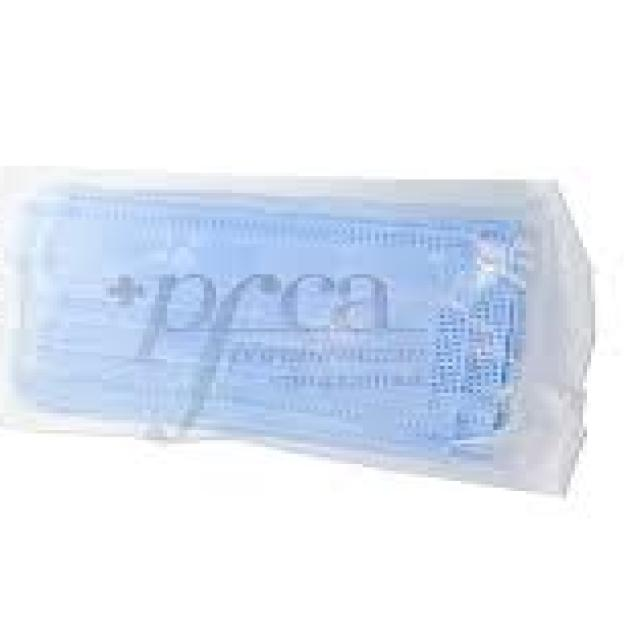organic: (8, 136, 603, 527)
